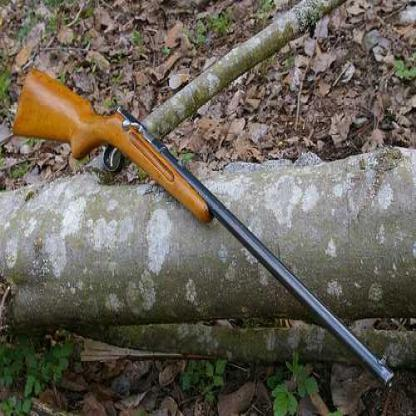rifle: (17, 67, 402, 396)
